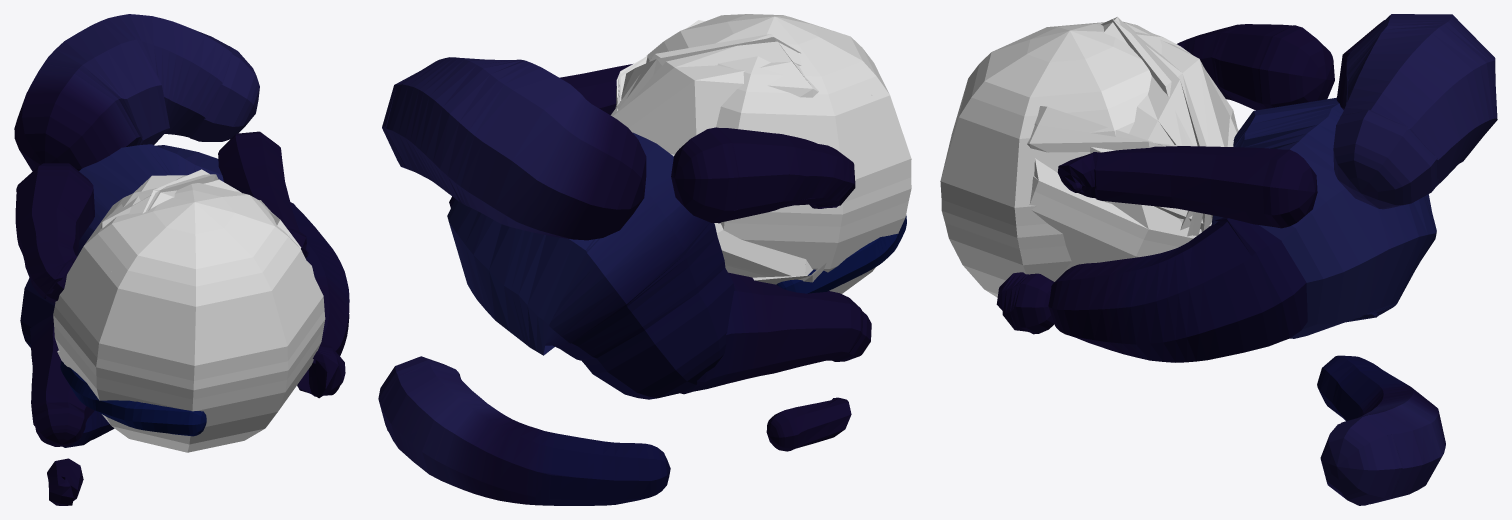
The model's file is blub2.gltf.
3 views of the same model, side by side, from view 1: azimuth 30°, elevation 25°; view 2: azimuth 150°, elevation 25°; view 3: azimuth 270°, elevation 25° (orthographic). The views are drawn at different scales.
Parts seen in each view (by area): view 1: MeshFrames; view 2: MeshFrames; view 3: MeshFrames.
Boxes of the visible parts, box(x1,y1,x2,y2) form: MeshFrames: box(14, 14, 349, 505); MeshFrames: box(378, 14, 911, 505); MeshFrames: box(940, 14, 1497, 505).
Bounding box in the file's own units: 0.12 × 0.1328 × 0.1514.
